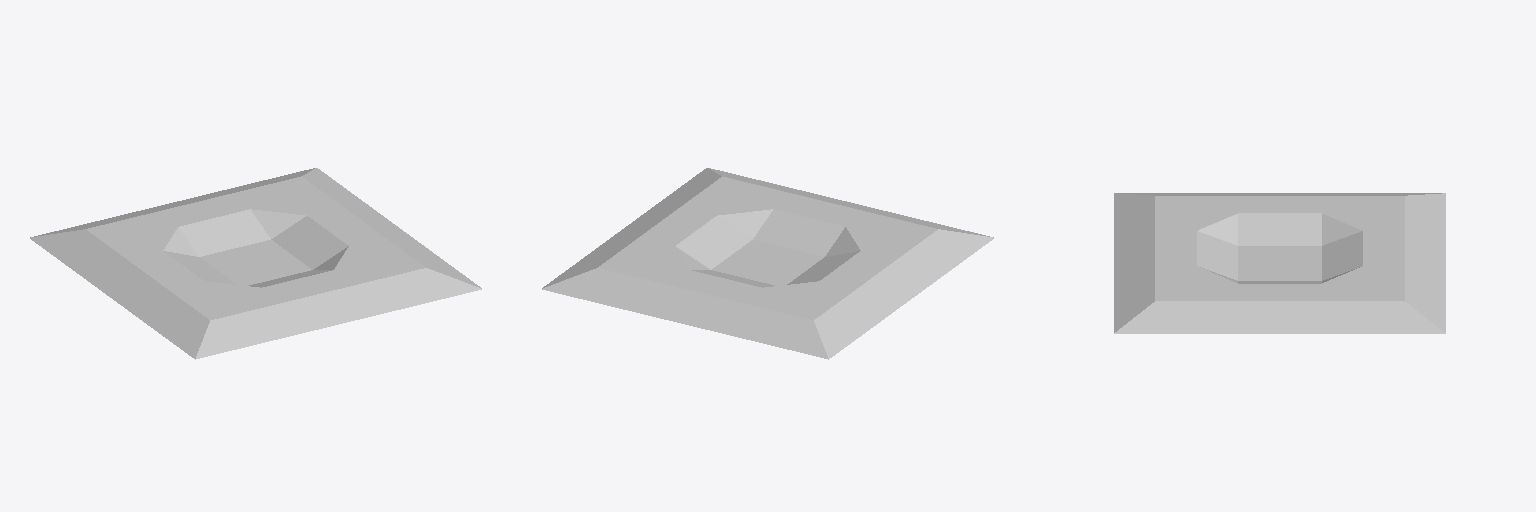
The model's file is ground.obj.
The picture shows the model from 3 angles: view 1: azimuth 30°, elevation 25°; view 2: azimuth 150°, elevation 25°; view 3: azimuth 270°, elevation 25°; orthographic projection.
Visible parts, largest first — view 1: Ground; view 2: Ground; view 3: Ground.
Boxes of the visible parts, x1=… form: Ground: x1=30, y1=168, x2=481, y2=359; Ground: x1=542, y1=168, x2=993, y2=359; Ground: x1=1114, y1=193, x2=1445, y2=333.
Bounding box in the file's own units: 10 × 0.5 × 10.